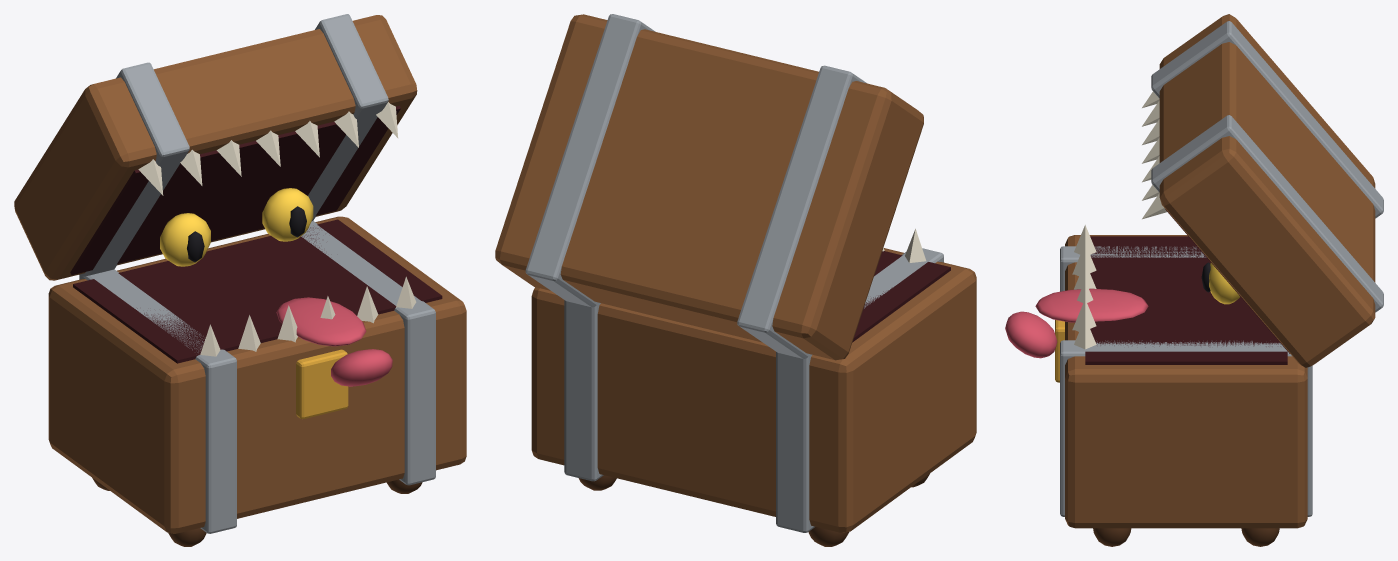
Rendered from mimic_test.glb.
The picture shows the model from 3 angles, left to right: view 1: azimuth 30°, elevation 25°; view 2: azimuth 150°, elevation 25°; view 3: azimuth 270°, elevation 25°; orthographic projection. The views are drawn at different scales.
Parts seen in each view (by area): view 1: Mimic; view 2: Mimic; view 3: Mimic.
Boxes of the visible parts, x1,y1,x2,y2 form: Mimic: (14, 14, 466, 546); Mimic: (495, 14, 976, 546); Mimic: (1005, 14, 1383, 546).
Size of the model in its own units: 1 by 1.37 by 1.12.
